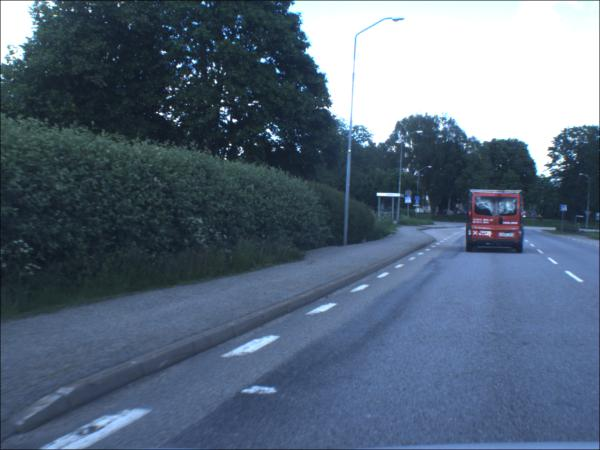PEDESTRIAN_CROSSING: (560, 206, 568, 213), (405, 198, 412, 205)
